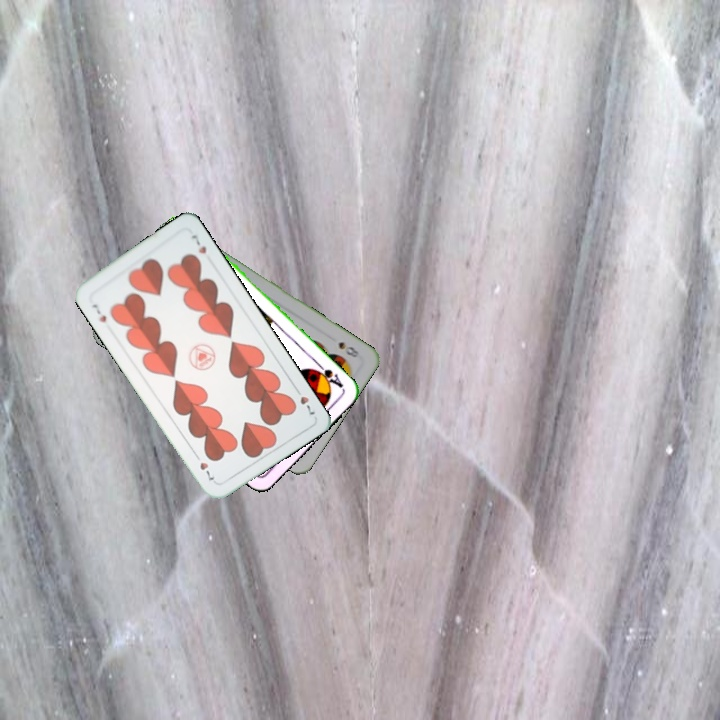H7: (290, 383, 318, 418), (88, 299, 109, 325)
S8: (334, 338, 362, 360)
SA: (309, 359, 346, 391)
